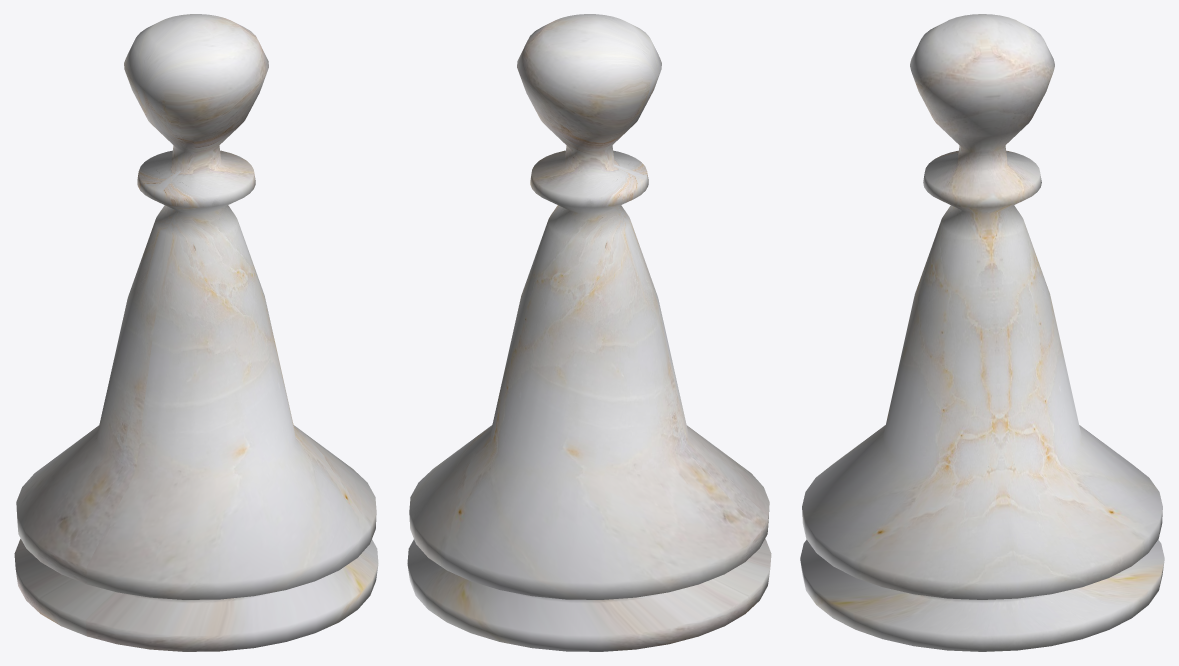
The model's file is pawn.glb.
The picture shows the model from 3 angles, left to right: view 1: azimuth 30°, elevation 25°; view 2: azimuth 150°, elevation 25°; view 3: azimuth 270°, elevation 25°; orthographic projection.
Visible parts, largest first — view 1: Cylinder; view 2: Cylinder; view 3: Cylinder.
Part boxes in pixels (<box>): Cylinder: <box>14,14,378,651</box>; Cylinder: <box>407,14,771,651</box>; Cylinder: <box>800,14,1164,651</box>.
Bounding box in the file's own units: 6.08 × 10.17 × 6.08.
Materials: 1 (1 with a texture image).
